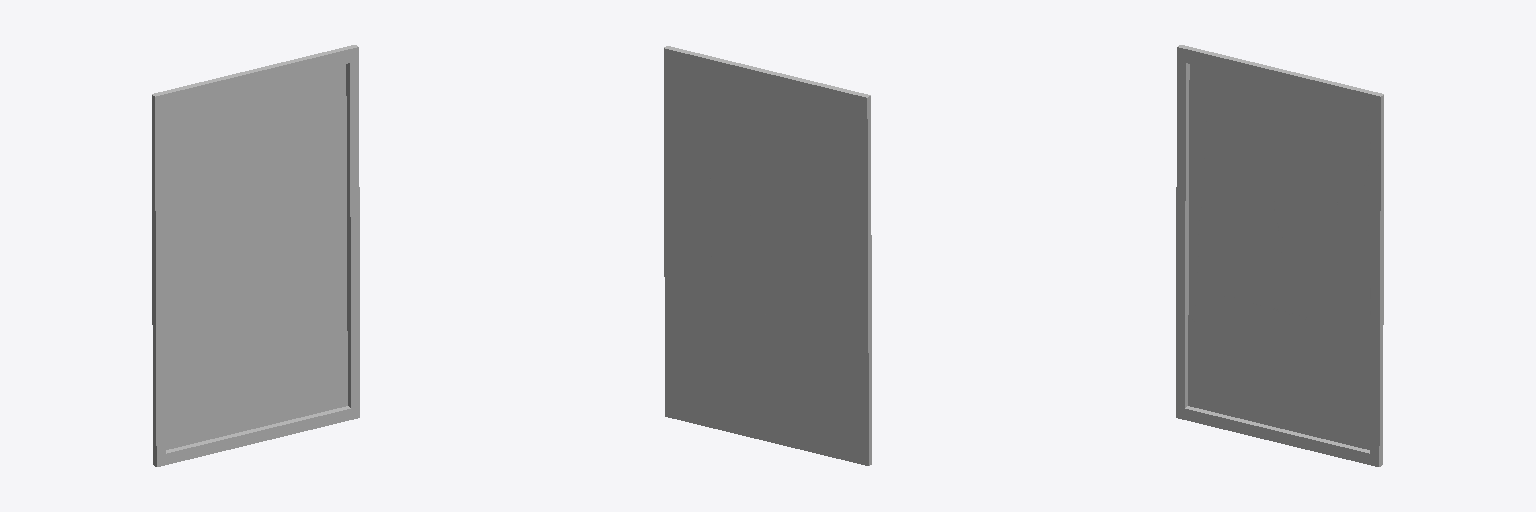
File: Cuadro2.obj
3 renders of one model, left to right at view 1: azimuth 30°, elevation 25°; view 2: azimuth 150°, elevation 25°; view 3: azimuth 330°, elevation 25°, orthographic.
Parts seen in each view (by area): view 1: Mesh17Model; view 2: Mesh17Model; view 3: Mesh17Model.
Part boxes in pixels (bbox=[...]): Mesh17Model: bbox=[152, 45, 359, 466]; Mesh17Model: bbox=[664, 46, 871, 465]; Mesh17Model: bbox=[1176, 45, 1383, 466].
Size of the model in its own units: 1.01 by 1.75 by 0.0435.